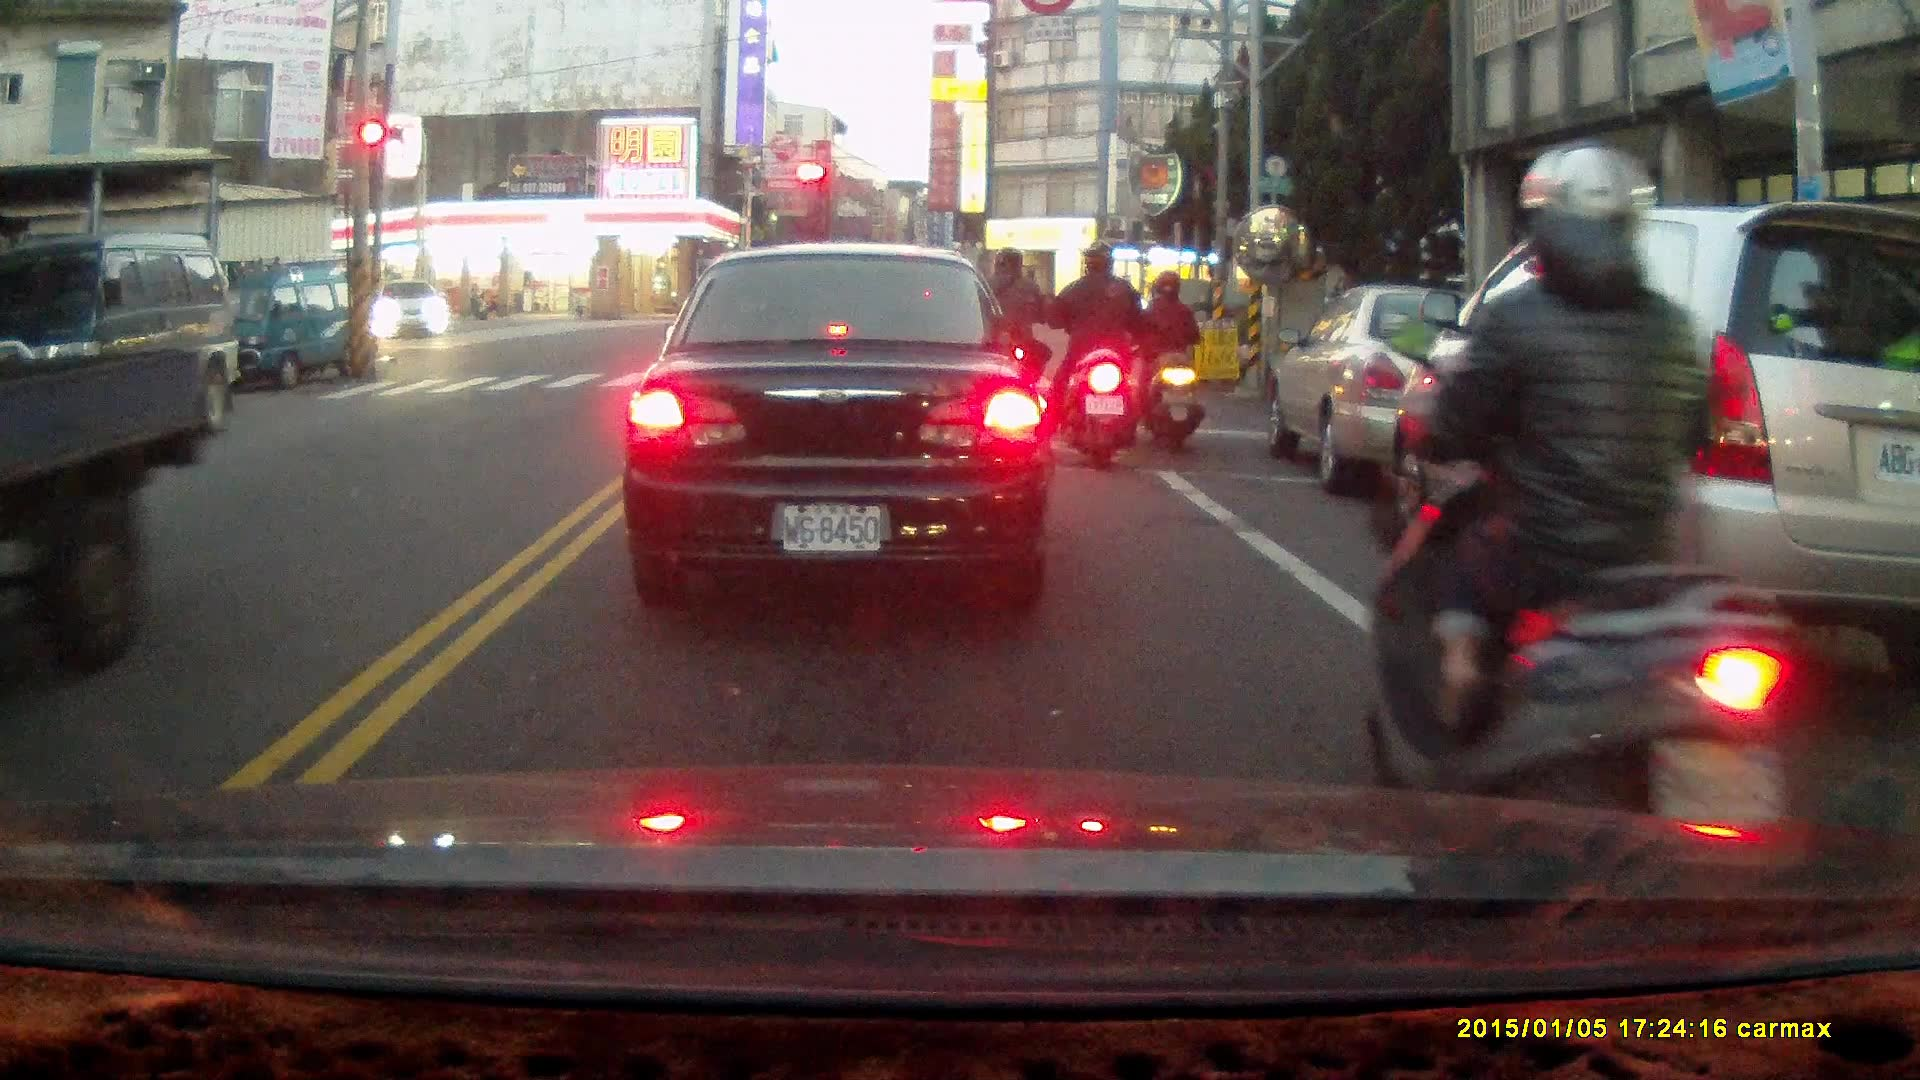rider: (1355, 138, 1810, 946), (1048, 242, 1141, 468), (964, 251, 1049, 431), (1135, 270, 1205, 451)
vehicle: (1378, 199, 1920, 686), (637, 247, 1047, 599), (1, 347, 221, 661), (1263, 287, 1596, 492), (5, 234, 244, 455), (193, 262, 383, 394), (372, 277, 451, 343)
